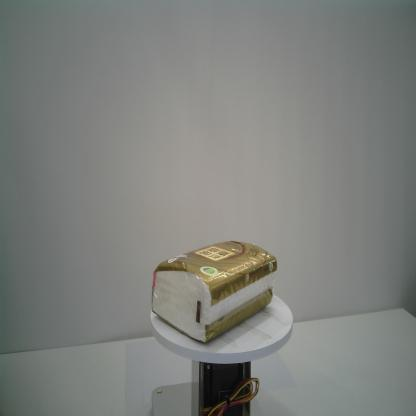Tissue: (150, 240, 278, 343)
